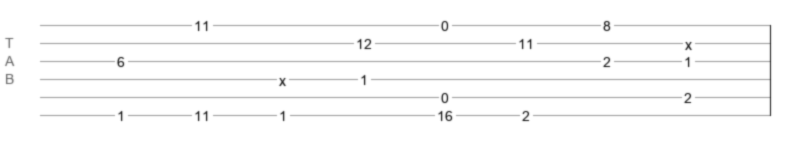0: (441, 90, 449, 100), (441, 18, 449, 28)
1: (117, 108, 125, 118), (279, 108, 287, 118), (360, 72, 368, 82), (684, 54, 692, 64)
11: (194, 18, 210, 28), (194, 108, 210, 118), (518, 36, 534, 46)
12: (356, 36, 372, 46)
16: (437, 108, 453, 118)
2: (522, 108, 530, 118), (603, 54, 611, 64), (684, 90, 692, 100)
6: (117, 54, 125, 64)
8: (603, 18, 611, 28)
x: (279, 73, 286, 81), (685, 37, 692, 45)
